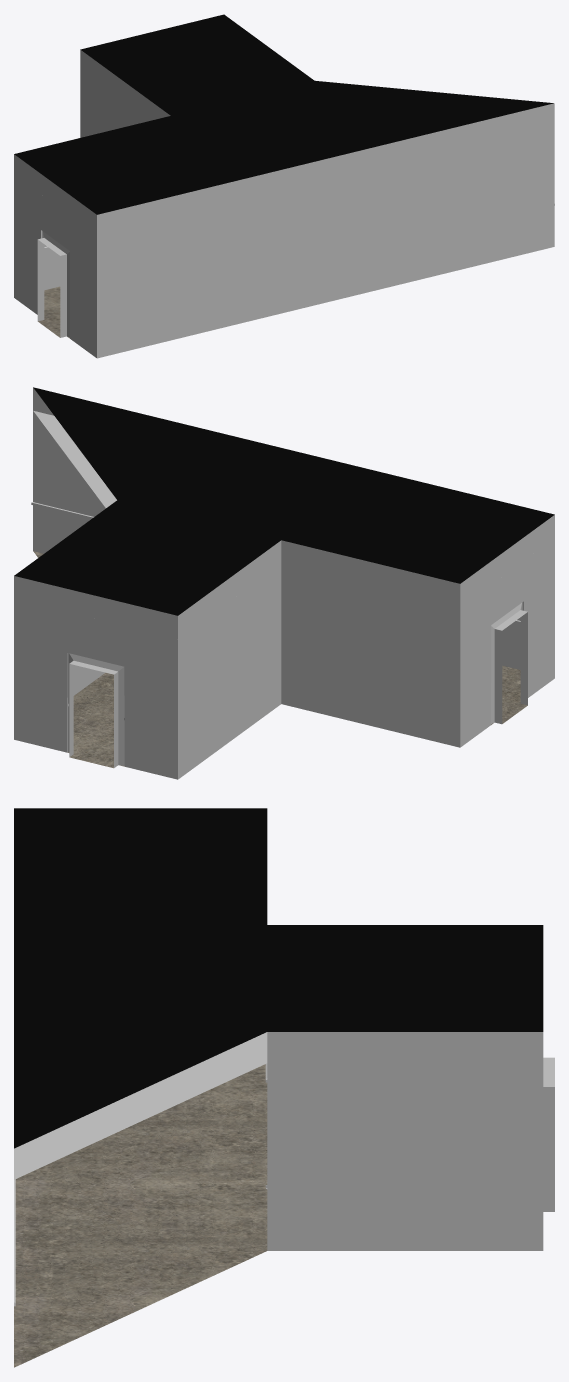
File: Hallway3x5.FBX
3 renders of one model, top to bottom at view 1: azimuth 30°, elevation 25°; view 2: azimuth 150°, elevation 25°; view 3: azimuth 270°, elevation 25°, orthographic. The views are drawn at different scales.
Visible parts, largest first — view 1: Hall3x5; view 2: Hall3x5; view 3: Hall3x5.
Boxes of the visible parts, box(x1,y1,x2,y2) form: Hall3x5: box(14, 14, 554, 358); Hall3x5: box(14, 387, 554, 779); Hall3x5: box(14, 808, 554, 1367).
Size of what is drawn, in the model's own units: 1401 by 413 by 925.
